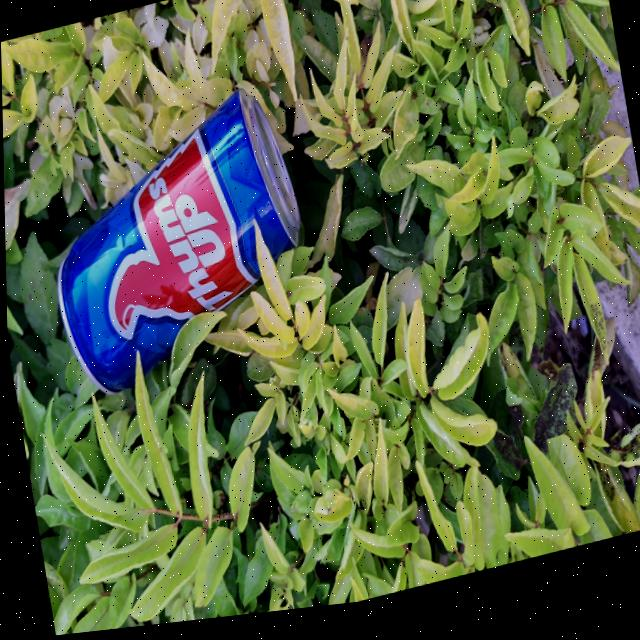Thums Up: (27, 74, 331, 430)
